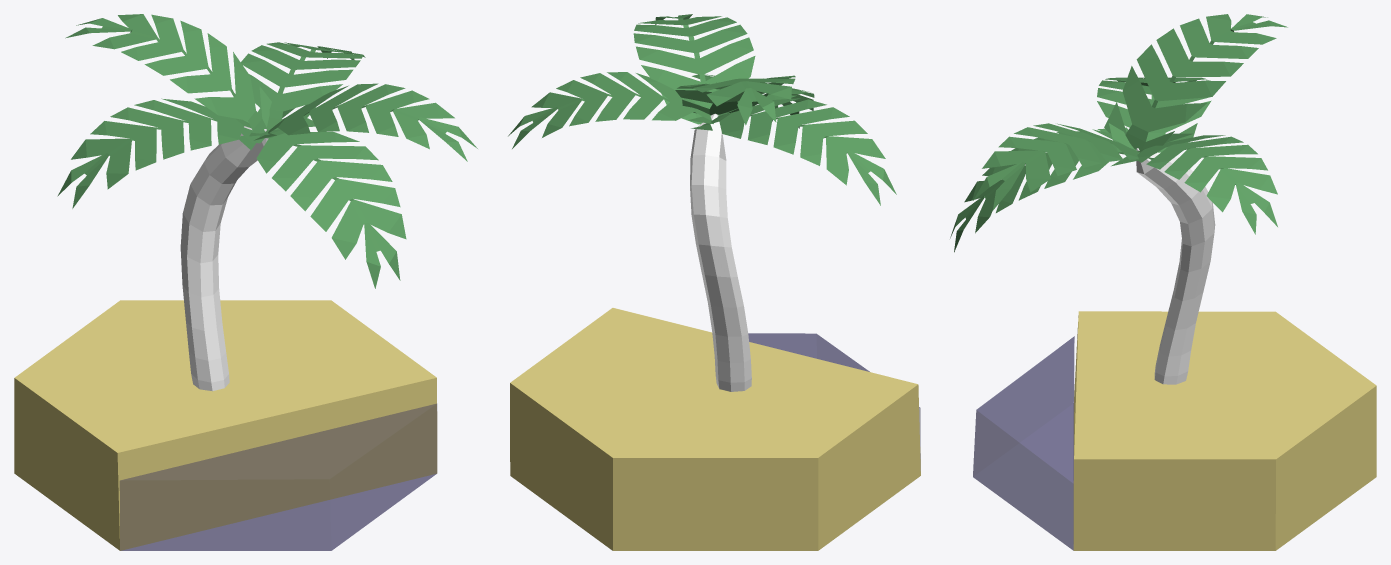
Rendered from HexCell_Beach_Connect_4.glb.
3 views of the same model, side by side, from view 1: azimuth 30°, elevation 25°; view 2: azimuth 150°, elevation 25°; view 3: azimuth 270°, elevation 25° (orthographic). The views are drawn at different scales.
Parts seen in each view (by area): view 1: HexCell_Beach_Connect_4; view 2: HexCell_Beach_Connect_4; view 3: HexCell_Beach_Connect_4.
Boxes of the visible parts, x1,y1,x2,y2 form: HexCell_Beach_Connect_4: (14, 14, 477, 550); HexCell_Beach_Connect_4: (508, 14, 920, 550); HexCell_Beach_Connect_4: (950, 14, 1376, 550).
Size of the model in its own units: 1.87 by 2.28 by 2.12.
